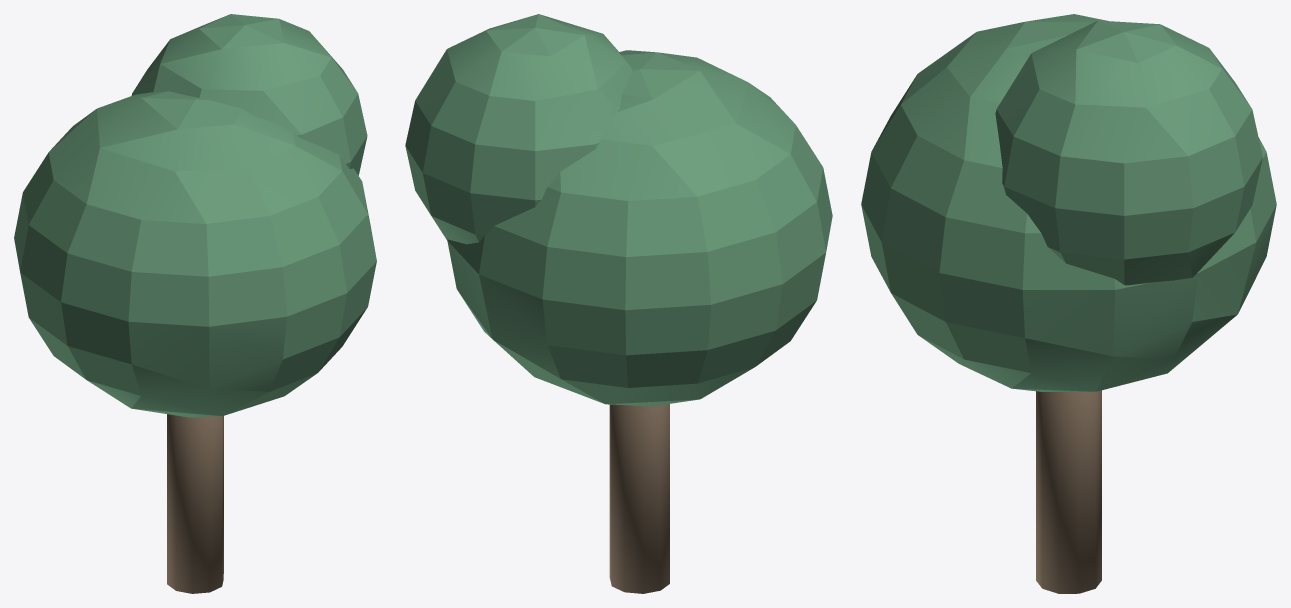
File: SM_Kurpark_Tree_LOD1.fbx
The picture shows the model from 3 angles, left to right: view 1: azimuth 30°, elevation 25°; view 2: azimuth 150°, elevation 25°; view 3: azimuth 270°, elevation 25°; orthographic projection. The views are drawn at different scales.
Visible parts, largest first — view 1: SM_Kurpark_Tree_LOD1; view 2: SM_Kurpark_Tree_LOD1; view 3: SM_Kurpark_Tree_LOD1.
Boxes of the visible parts, x1,y1,x2,y2 form: SM_Kurpark_Tree_LOD1: [14, 14, 376, 593]; SM_Kurpark_Tree_LOD1: [405, 14, 832, 593]; SM_Kurpark_Tree_LOD1: [861, 14, 1276, 593].
Bounding box in the file's own units: 3.16 × 4.7 × 3.
